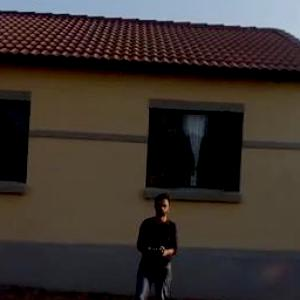follow: (123, 189, 183, 299)
